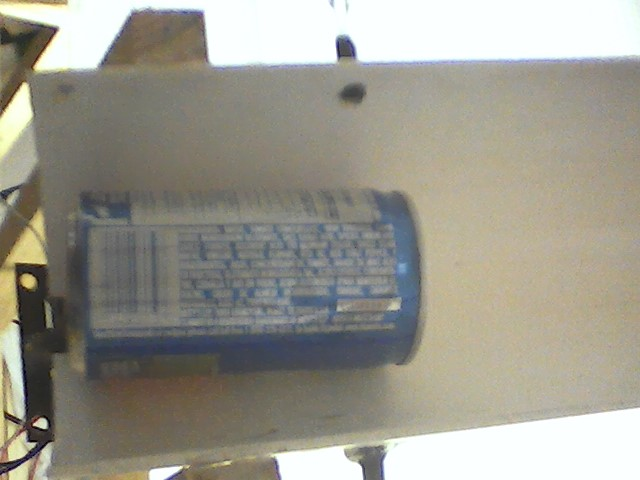lata: (64, 186, 436, 378)
